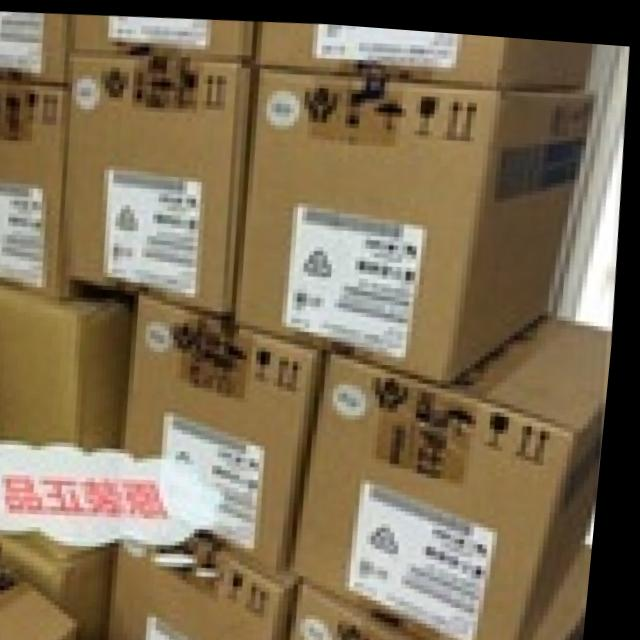box: (240, 64, 597, 374), (303, 307, 617, 640), (136, 291, 324, 566), (75, 58, 254, 314), (0, 76, 126, 300), (0, 282, 147, 448), (254, 20, 597, 82), (117, 540, 315, 640), (15, 526, 127, 640), (301, 575, 456, 640), (66, 17, 255, 61), (0, 558, 92, 640), (539, 532, 602, 640), (0, 15, 68, 82)
